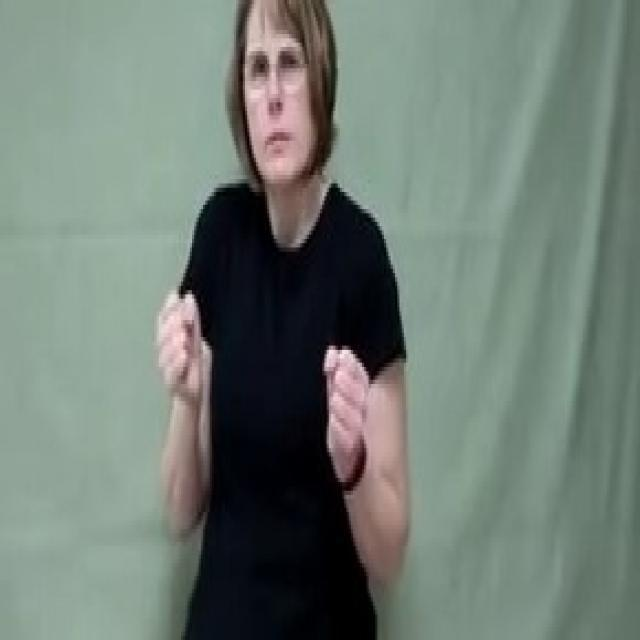cold: (152, 270, 412, 598)
